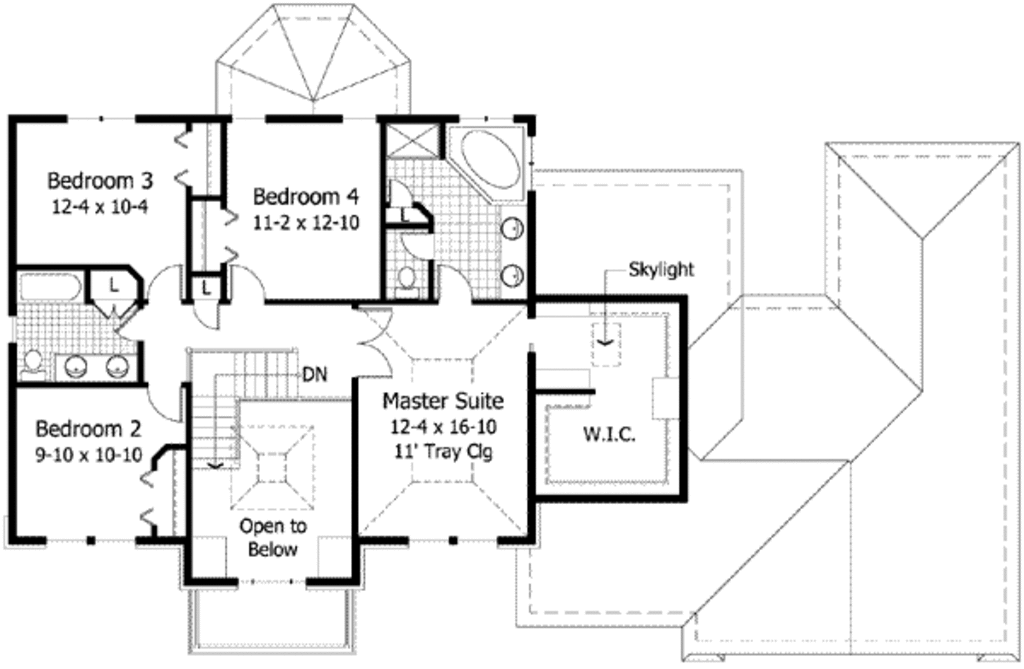door: (350, 303, 394, 380), (148, 261, 190, 306), (226, 261, 267, 304), (143, 379, 181, 425), (392, 228, 436, 263), (436, 264, 470, 306), (195, 299, 224, 331), (387, 180, 412, 207)
large_sink: (388, 264, 425, 305), (15, 348, 46, 386)
small_sink: (53, 353, 139, 386)
stairs: (185, 348, 299, 467)
tub: (443, 122, 527, 206), (11, 268, 85, 305)
windows: (400, 532, 499, 548), (231, 576, 309, 592), (58, 111, 134, 126), (43, 536, 139, 547), (221, 112, 274, 128), (335, 109, 378, 124)
